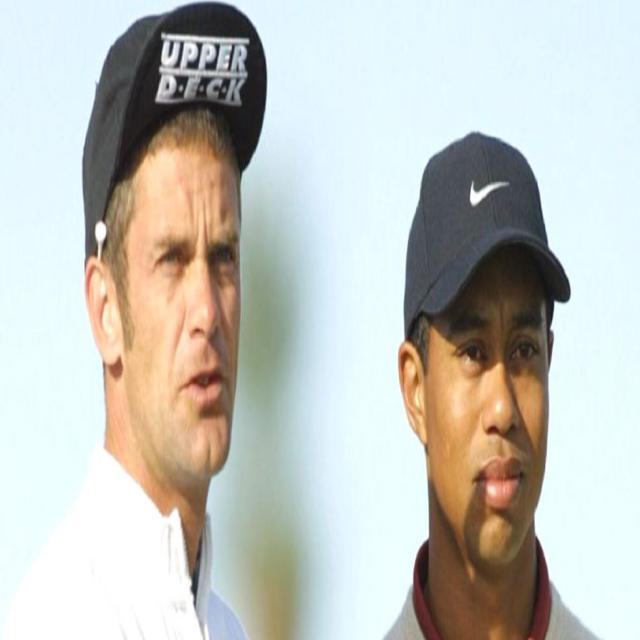cap: (83, 2, 268, 478), (398, 129, 572, 569)
